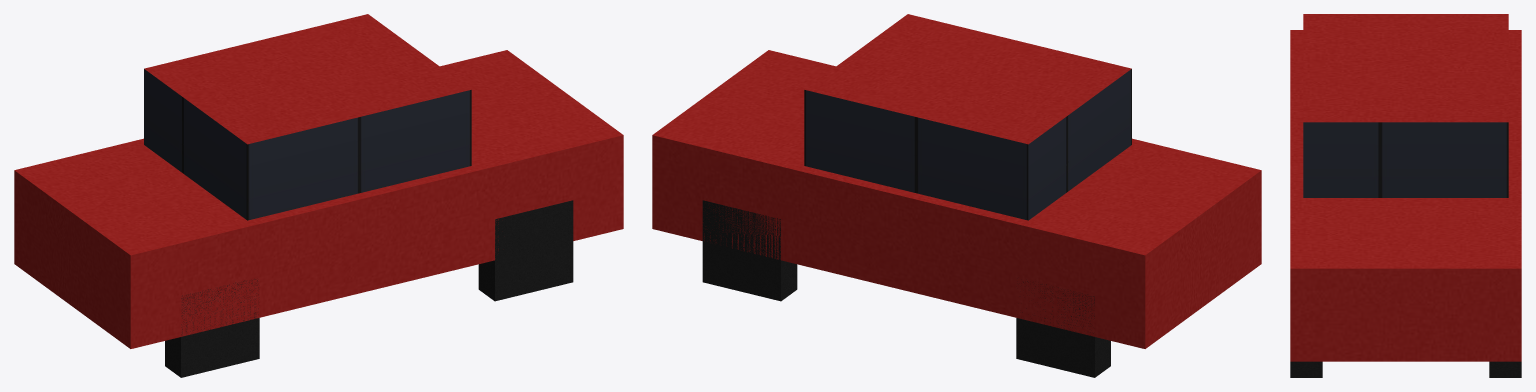
The model's file is car_red.obj.
The picture shows the model from 3 angles, left to right: view 1: azimuth 30°, elevation 25°; view 2: azimuth 150°, elevation 25°; view 3: azimuth 270°, elevation 25°; orthographic projection.
Visible parts, largest first — view 1: Body_Paint_red, Cabin_Glass, Cabin_Paint_red, Wheels_Tire; view 2: Body_Paint_red, Cabin_Glass, Cabin_Paint_red, Wheels_Tire; view 3: Body_Paint_red, Cabin_Paint_red, Cabin_Glass, Wheels_Tire.
Boxes of the visible parts, bbox=[...] form: Body_Paint_red: bbox=[14, 50, 623, 348]; Cabin_Glass: bbox=[144, 69, 471, 220]; Cabin_Paint_red: bbox=[144, 14, 471, 144]; Wheels_Tire: bbox=[165, 200, 573, 377]; Body_Paint_red: bbox=[652, 50, 1261, 348]; Cabin_Glass: bbox=[804, 69, 1131, 220]; Cabin_Paint_red: bbox=[804, 14, 1131, 144]; Wheels_Tire: bbox=[702, 200, 1110, 377]; Body_Paint_red: bbox=[1290, 30, 1521, 361]; Cabin_Paint_red: bbox=[1303, 14, 1508, 122]; Cabin_Glass: bbox=[1303, 122, 1508, 197]; Wheels_Tire: bbox=[1290, 361, 1521, 377].
Bounding box in the file's own units: 4.4 × 1.8 × 1.8.
3 materials, 3 textured.
